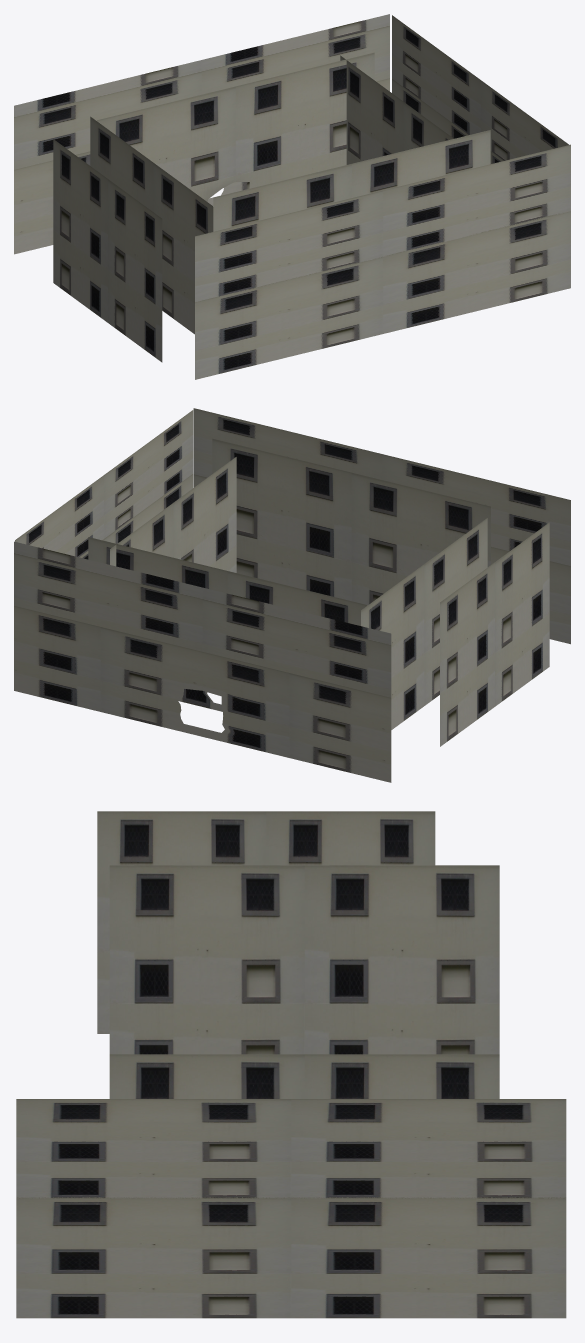
The model's file is dvorac-palaca.fbx.
3 renders of one model, top to bottom at view 1: azimuth 30°, elevation 25°; view 2: azimuth 150°, elevation 25°; view 3: azimuth 270°, elevation 25°, orthographic. The views are drawn at different scales.
Visible parts, largest first — view 1: Plane.6, Plane.7, Plane, Plane.8, Plane.11, Plane.4, Plane.10, Plane.2, Plane.3, Plane.9, Plane.5; view 2: Plane.9, Plane.4, Plane.11, Plane.8, Plane.7, Plane.2, Plane.10, Plane.3, Plane, Plane.6, Plane.5; view 3: Plane.2, Plane.5, Plane.10, Plane.8, Plane.3.
Part boxes in pixels (box(x1,y1,x2,y2)): Plane.6: box(195, 211, 570, 379); Plane.7: box(195, 144, 570, 302); Plane: box(97, 52, 374, 202); Plane.8: box(53, 139, 162, 362); Plane.11: box(14, 14, 389, 169); Plane.4: box(213, 130, 490, 231); Plane.10: box(392, 15, 568, 160); Plane.2: box(90, 116, 213, 334); Plane.3: box(340, 55, 453, 164); Plane.9: box(14, 78, 389, 254); Plane.5: box(392, 79, 503, 163); Plane.9: box(14, 606, 391, 782); Plane.4: box(212, 438, 490, 605); Plane.11: box(14, 541, 391, 697); Plane.8: box(440, 522, 549, 746); Plane.7: box(193, 408, 570, 565); Plane.2: box(361, 518, 487, 729); Plane.10: box(15, 410, 193, 557); Plane.3: box(110, 457, 236, 572); Plane: box(88, 537, 366, 711); Plane.6: box(193, 474, 570, 644); Plane.5: box(79, 474, 193, 559); Plane.2: box(109, 865, 499, 1054); Plane.5: box(16, 1197, 566, 1318); Plane.10: box(16, 1099, 566, 1198); Plane.8: box(97, 811, 435, 1033); Plane.3: box(109, 1054, 499, 1098).
Bounding box in the file's own units: 748 × 288 × 611.
1 material, 1 textured.
